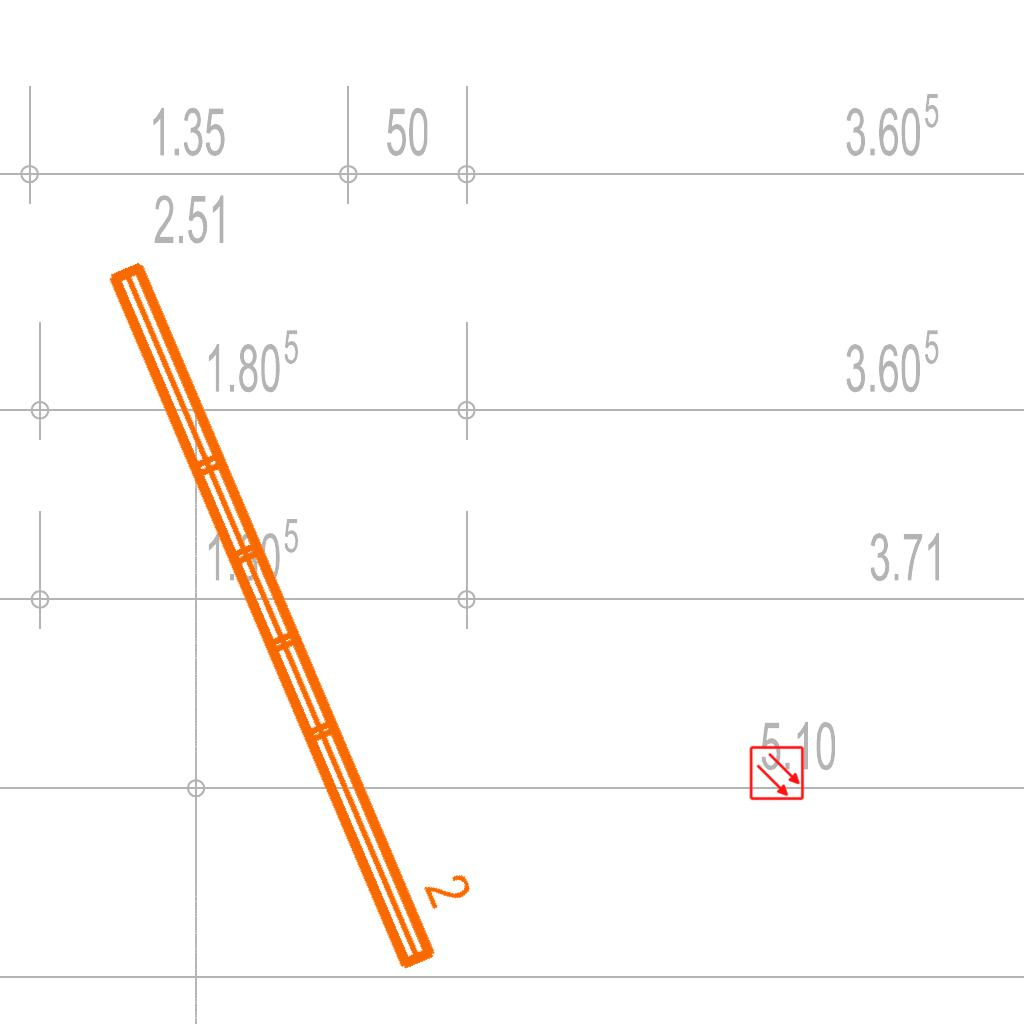Ambulanz_Pendelleuchte_LED: (92, 226, 498, 984)
RMO_Rauchmelder_optischer: (749, 745, 805, 801)
